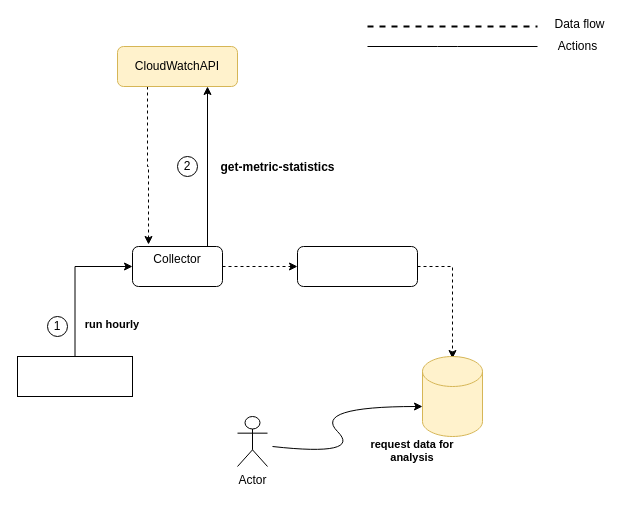
Some shapes in this 630 by 505 pixel diagram are drawn without their labels. The shapes that lost their labels are listed below. From the top down, each one's centre as x and y in pixels, then its label:
At [357,266]: "ProcessData".
At [74,376]: "Crontab script".
At [452,396]: "s3".
